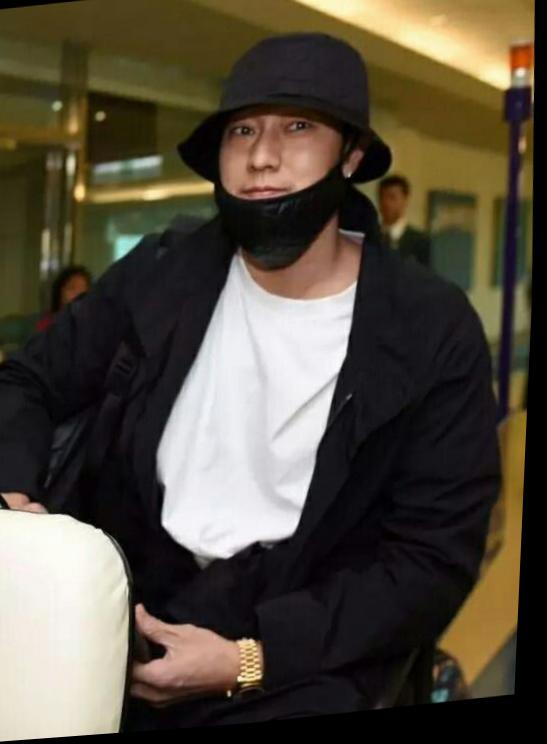NONE: (380, 196, 406, 226), (67, 281, 93, 307)
WRONG: (201, 103, 362, 265)
